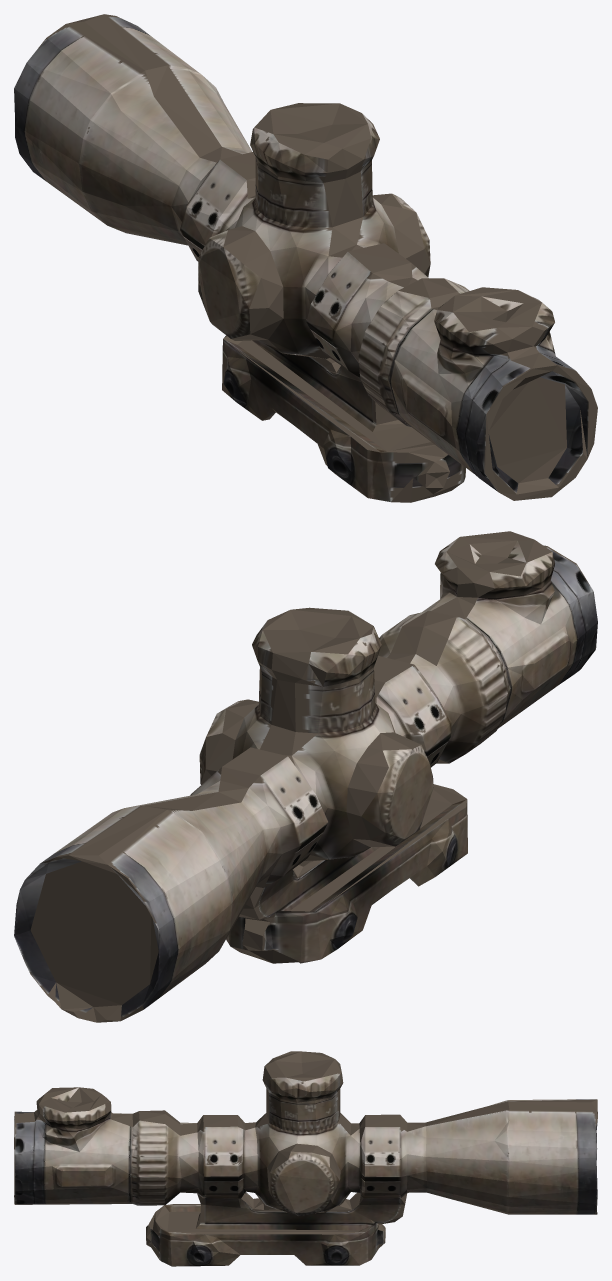
The model's file is lpvo.glb.
The picture shows the model from 3 angles, top to bottom: view 1: azimuth 30°, elevation 25°; view 2: azimuth 150°, elevation 25°; view 3: azimuth 270°, elevation 25°; orthographic projection. The views are drawn at different scales.
Parts seen in each view (by area): view 1: Mesh_0; view 2: Mesh_0; view 3: Mesh_0.
Boxes of the visible parts, x1,y1,x2,y2 form: Mesh_0: (14,14,597,502); Mesh_0: (14,531,597,1022); Mesh_0: (14,1051,597,1266).
Bounding box in the file's own units: 0.0682 × 0.0993 × 0.28.
1 material, 1 textured.
